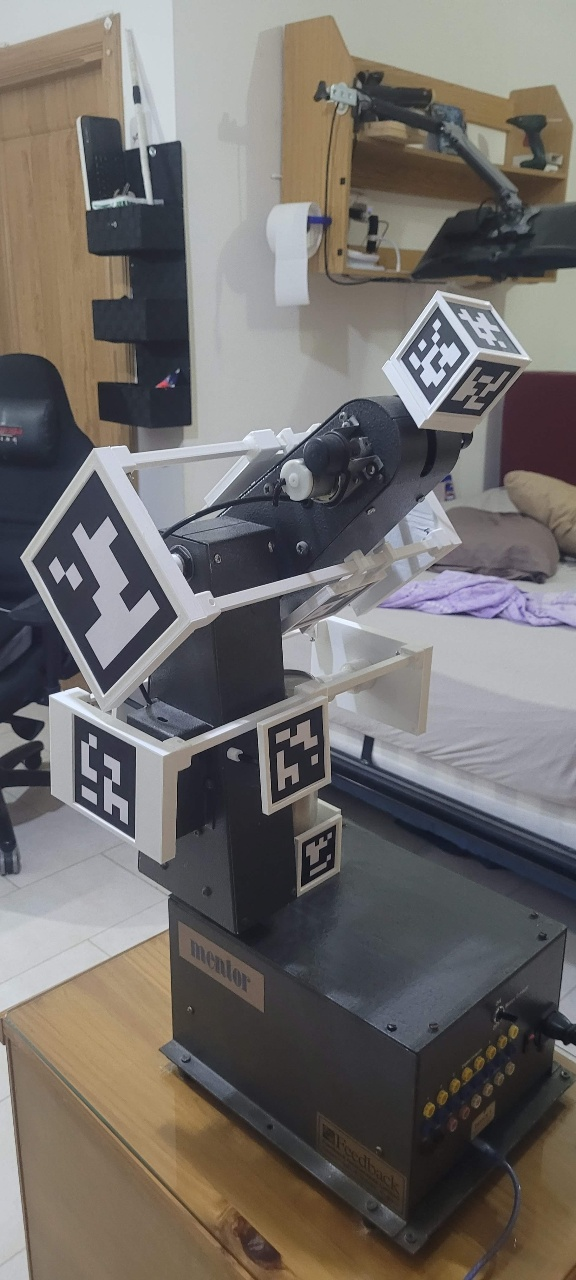Robot: (18, 286, 533, 938)
